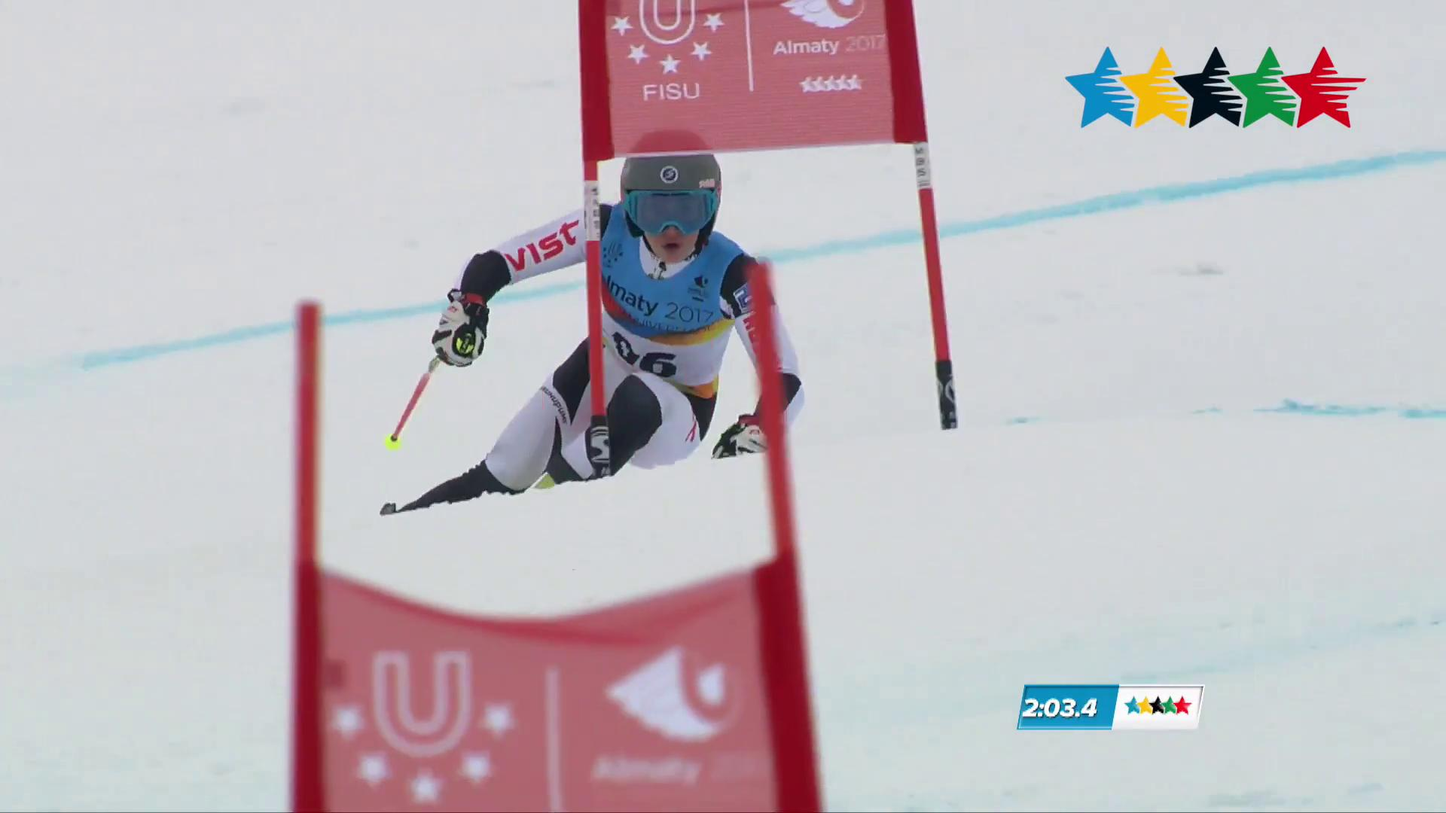gate: (749, 264, 822, 811), (889, 0, 957, 428), (291, 300, 327, 812), (578, 0, 614, 443)
